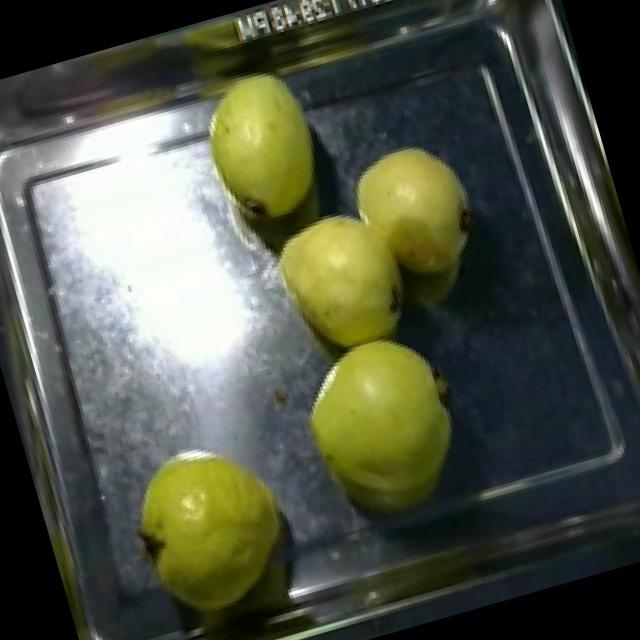Fruit: (274, 311, 486, 541), (109, 419, 314, 633), (328, 122, 497, 309), (180, 54, 343, 247)
